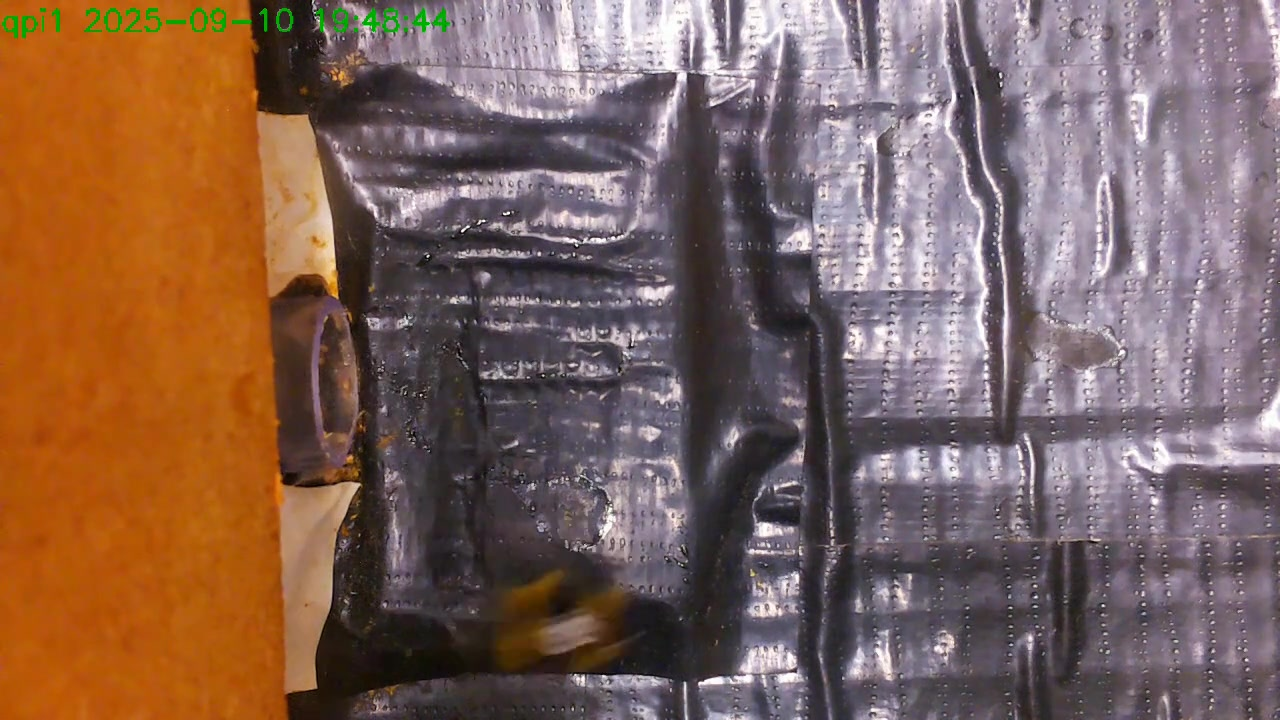bee: (460, 540, 687, 695)
